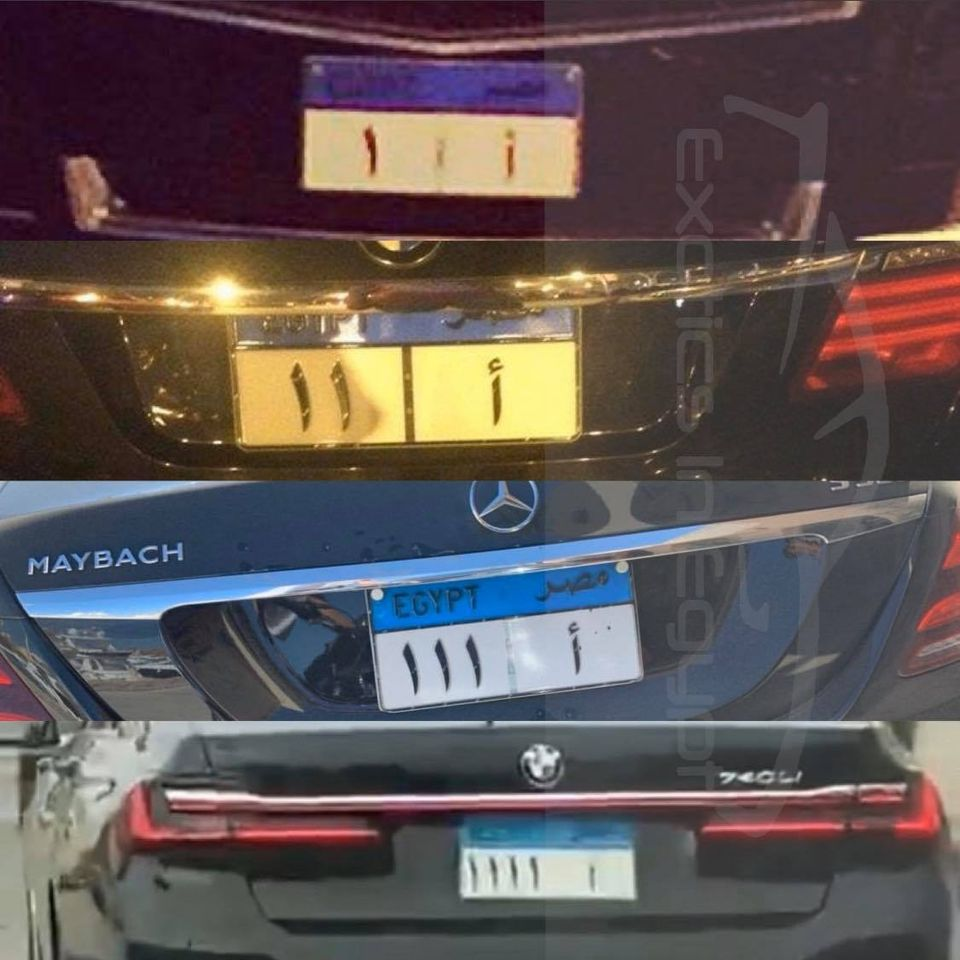carpl: (242, 340, 580, 444), (305, 67, 586, 187), (384, 593, 631, 709), (462, 828, 640, 899)
